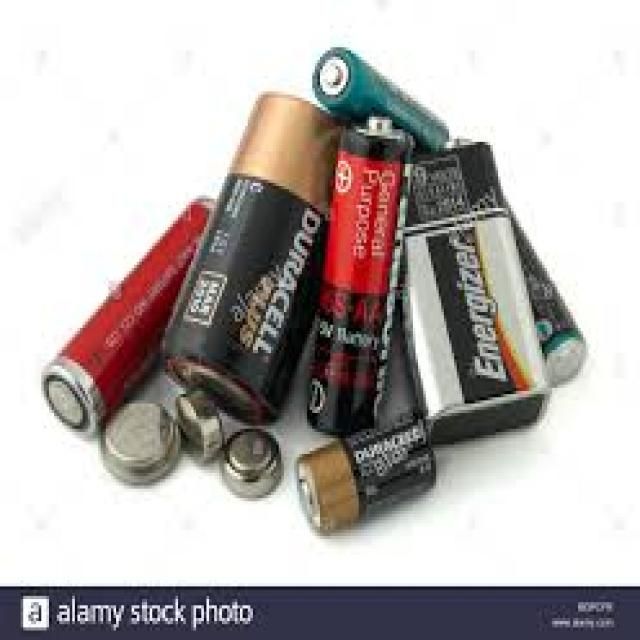non-organic waste: (162, 88, 339, 420), (391, 137, 550, 445), (38, 197, 214, 441), (285, 404, 441, 540), (309, 48, 450, 164)
